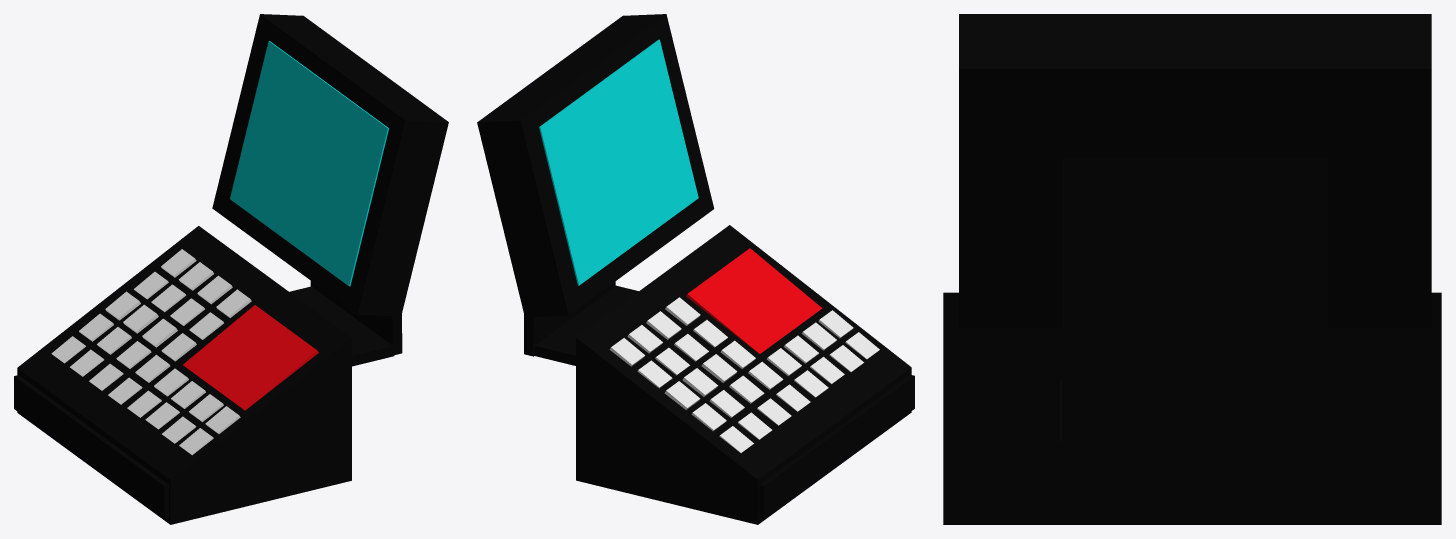
The model's file is CashRegister.fbx.
3 views of the same model, side by side, from view 1: azimuth 30°, elevation 25°; view 2: azimuth 150°, elevation 25°; view 3: azimuth 270°, elevation 25° (orthographic). The views are drawn at different scales.
Parts seen in each view (by area): view 1: Cube, Cube.003, Cube.004, Cube.025, Cube.034, Cube.001, Cube.002, Cube.014, Cube.015, Cube.016, Cube.005, Cube.006 (+15 smaller); view 2: Cube, Cube.003, Cube.004, Cube.025, Cube.034, Cube.001, Cube.002, Cube.014, Cube.016, Cube.015, Cube.007, Cube.006 (+15 smaller); view 3: Cube.003, Cube.002, Cube.
Boxes of the visible parts, <box> form: Cube: <box>17,226,351,524</box>; Cube.003: <box>212,14,448,316</box>; Cube.004: <box>230,41,388,286</box>; Cube.025: <box>183,305,318,410</box>; Cube.034: <box>14,375,168,518</box>; Cube.001: <box>289,286,394,366</box>; Cube.002: <box>310,281,402,355</box>; Cube.014: <box>142,318,177,347</box>; Cube.015: <box>123,304,158,333</box>; Cube.016: <box>105,291,140,320</box>; Cube.005: <box>161,249,196,277</box>; Cube.006: <box>178,262,213,290</box>; Cube: <box>576,225,911,524</box>; Cube.003: <box>477,14,714,317</box>; Cube.004: <box>539,39,698,285</box>; Cube.025: <box>686,248,822,353</box>; Cube.034: <box>759,374,914,518</box>; Cube.001: <box>534,285,638,365</box>; Cube.002: <box>524,281,615,356</box>; Cube.014: <box>701,354,737,382</box>; Cube.016: <box>664,381,700,409</box>; Cube.015: <box>682,368,718,396</box>; Cube.007: <box>646,311,681,339</box>; Cube.006: <box>627,325,662,353</box>; Cube.003: <box>959,14,1431,328</box>; Cube.002: <box>1062,157,1328,464</box>; Cube: <box>943,292,1441,524</box>.
Size of the model in its own units: 407 by 462 by 375.
